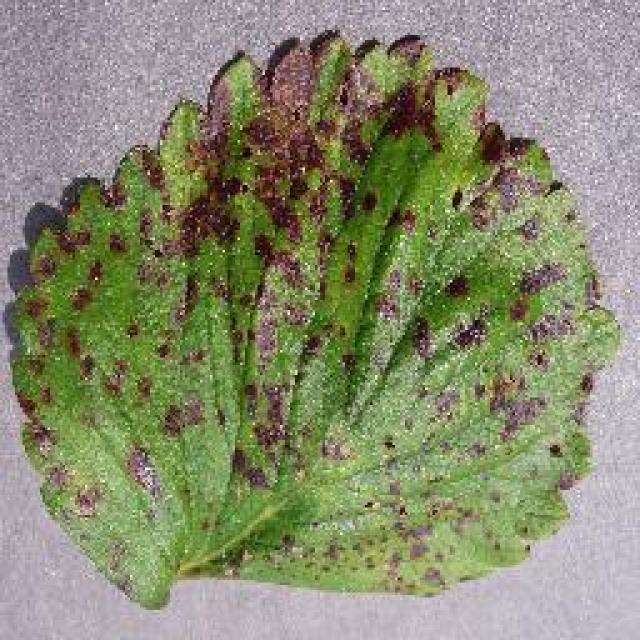Strawberry leaf scorch: (40, 70, 585, 577)
